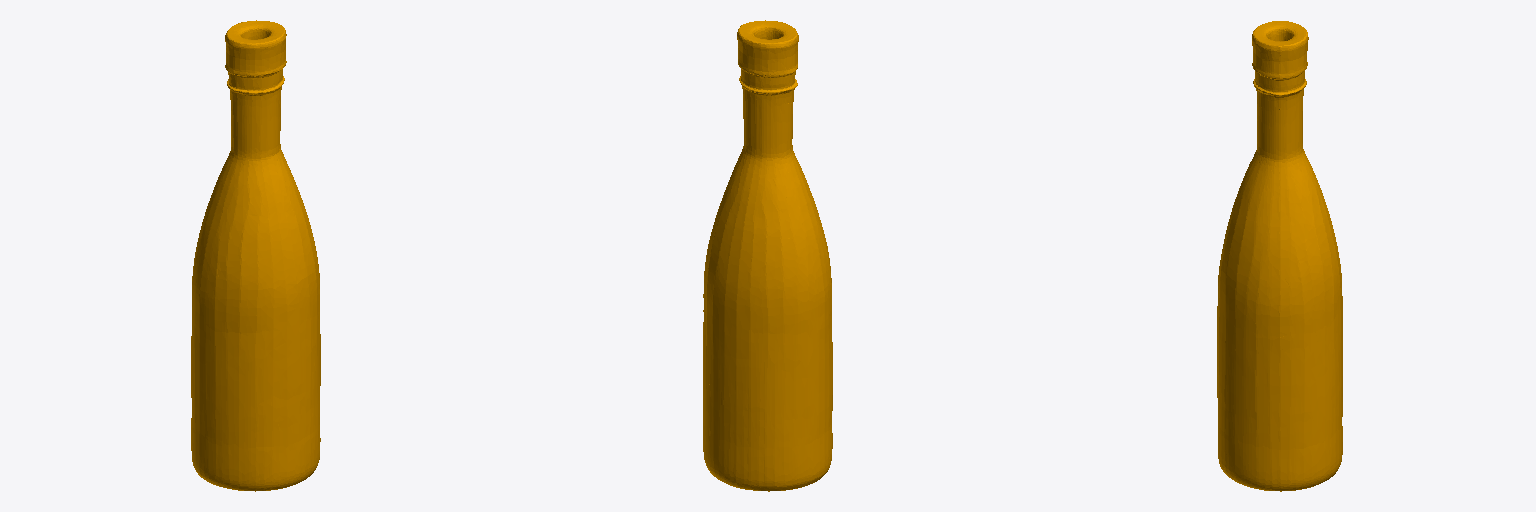
robot.urdf — sample:
<?xml version="1.0" ?>
<robot name="sample">
   <link name="sample">
      <visual>
         <origin xyz="0 0 0" rpy="1.5708 0.0 0.0"/>
         <geometry>
            <mesh filename="mesh/sample.obj" scale="1.0 1.0 1.0"/>
         </geometry>
      </visual>
      <collision>
         <origin xyz="0 0 0" rpy="1.5708 0.0 0.0"/>
         <geometry>
            <mesh filename="mesh/sample_collision.obj" scale="1.0 1.0 1.0"/>
         </geometry>
         <gazebo>
            <mu1>0.70</mu1>
            <mu2>0.50</mu2>
         </gazebo>
      </collision>
      <inertial>
         <mass value="0.6500"/>
         <origin xyz="0 0 0"/>
         <inertia ixx="1.0" ixy="0.0" ixz="0.0" iyy="1.0" iyz="0.0" izz="1.0"/>
      </inertial>
      <extra_info>
         <scale>0.275000</scale>
         <version>v0.1.7</version>
         <category>bottle drink</category>
         <description>dark green glass bottle with red label and black cap</description>
         <min_height>0.25</min_height>
         <max_height>0.3</max_height>
         <real_height>0.275</real_height>
         <min_mass>0.5</min_mass>
         <max_mass>0.8</max_mass>
         <color>red</color>
         <rgba>[1.0, 0.2, 0.2, 1.0]</rgba>
         <generate_time>20260526163419</generate_time>
         <gs_model>mesh/sample_gs.ply</gs_model>
      </extra_info>
   </link>
   <custom_data>
      <quality>
         <MeshGeoChecker>YES</MeshGeoChecker>
         <ImageSegChecker>NO, object is not fully extracted; background elements remain and object is not properly isolated.</ImageSegChecker>
         <ImageAestheticChecker>4.663965463638306</ImageAestheticChecker>
         <overall>NO</overall>
      </quality>
   </custom_data>
</robot>

--- What the picture shows (computed from the rendered views, not written in the file) ---
The picture shows the robot from 3 angles, left to right: view 1: azimuth 30°, elevation 25°; view 2: azimuth 150°, elevation 25°; view 3: azimuth 270°, elevation 25°; orthographic projection.
Robot: sample — 1 links, 0 joints (none); root link sample; default pose: every joint at zero.
Links seen in each view (by area): view 1: sample; view 2: sample; view 3: sample.
Boxes of the visible links, x1=… form: sample: x1=191, y1=20, x2=320, y2=491; sample: x1=703, y1=20, x2=832, y2=491; sample: x1=1217, y1=21, x2=1342, y2=491.
Size in the robot's own frame: 0.075 by 0.0722 by 0.275 metres.
Meshes: 1 distinct files referenced, 1 mesh visuals loaded (1 OBJ).
